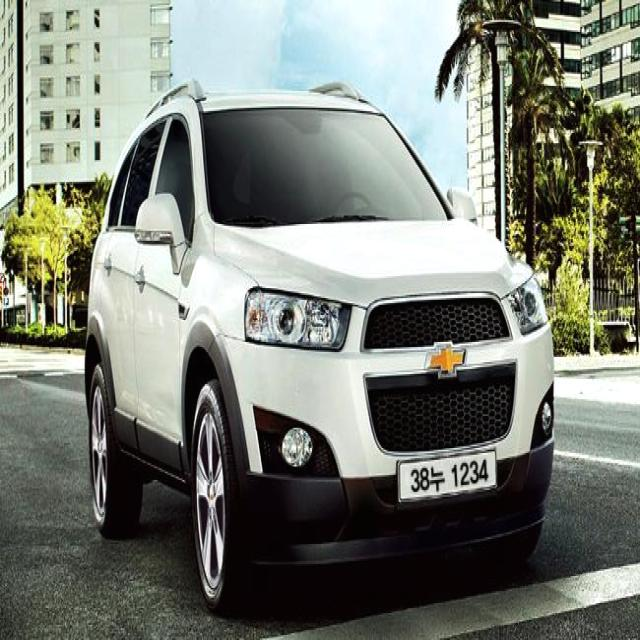car: (83, 67, 558, 611)
illegal_plate: (397, 445, 496, 507)
